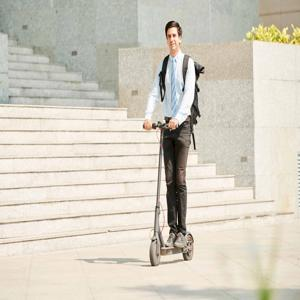human on a scooter: (142, 19, 206, 267)
